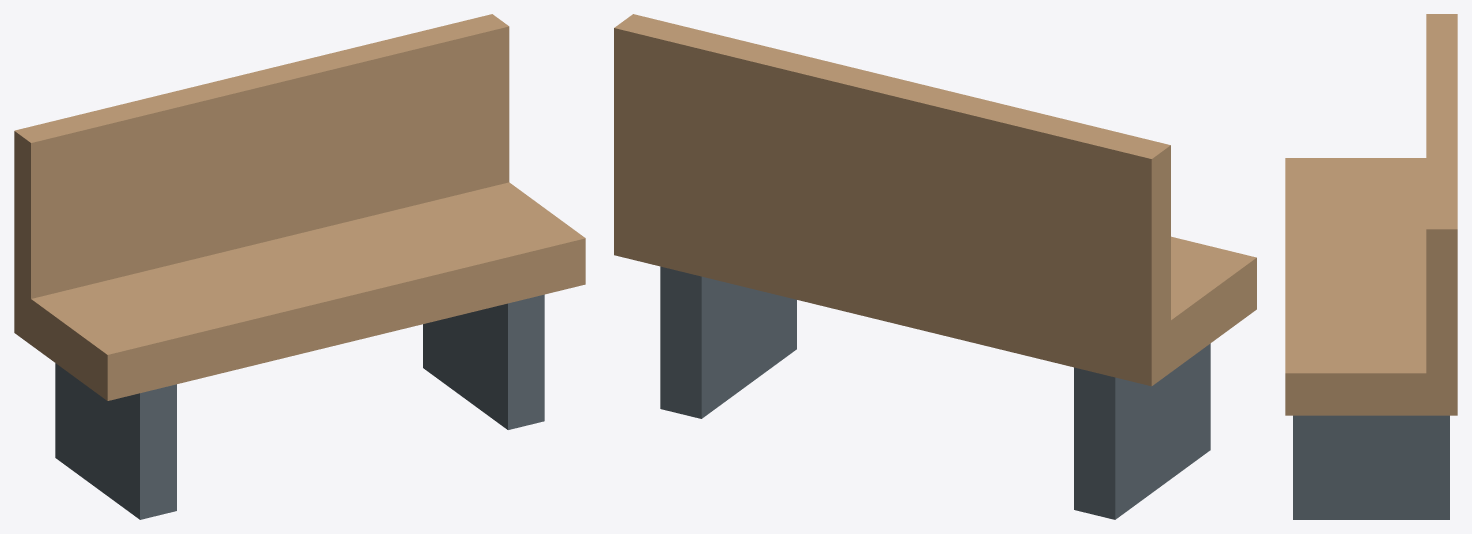
File: city-bench.glb
The picture shows the model from 3 angles, left to right: view 1: azimuth 30°, elevation 25°; view 2: azimuth 150°, elevation 25°; view 3: azimuth 270°, elevation 25°; orthographic projection. The views are drawn at different scales.
Size of the model in its own units: 1.3 by 0.865 by 0.44.
